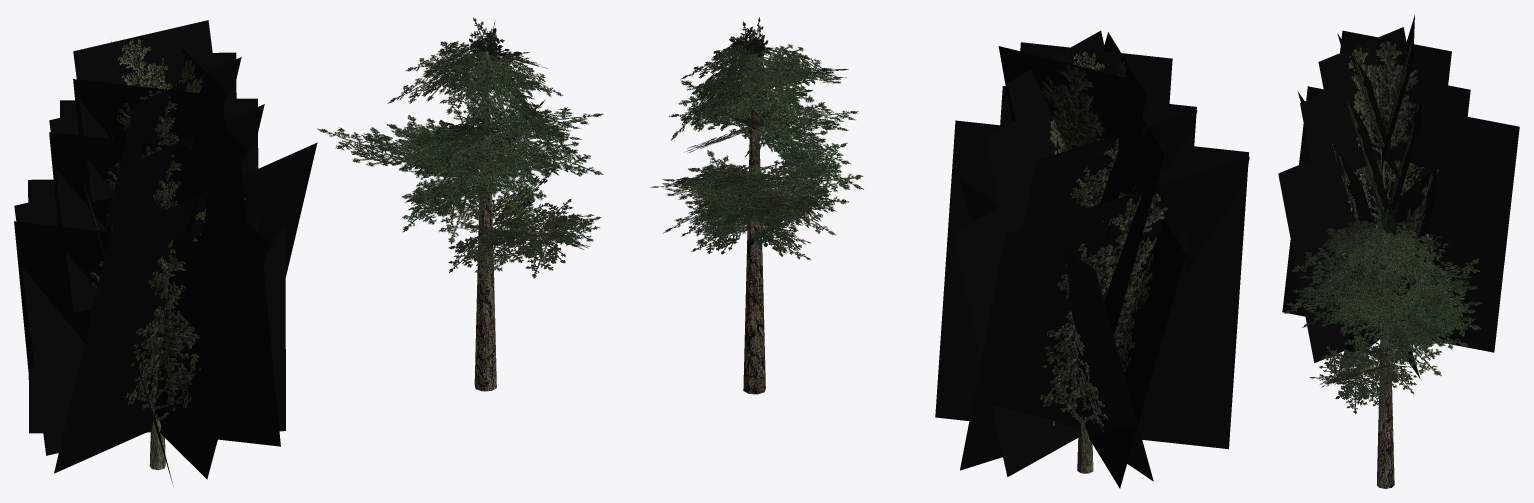
Rendered from Folliage.fbx.
The picture shows the model from 3 angles, left to right: view 1: azimuth 30°, elevation 25°; view 2: azimuth 150°, elevation 25°; view 3: azimuth 270°, elevation 25°; orthographic projection. The views are drawn at different scales.
Parts seen in each view (by area): view 1: Tree2, Tree1; view 2: Tree2, Tree1; view 3: Tree2, Tree1.
Boxes of the visible parts, x1,y1,x2,y2 form: Tree2: [14, 20, 317, 485]; Tree1: [317, 17, 603, 391]; Tree2: [935, 30, 1249, 488]; Tree1: [650, 17, 863, 394]; Tree2: [1278, 15, 1519, 378]; Tree1: [1284, 203, 1482, 488].
Size of the model in its own units: 2673 by 1311 by 1933.
